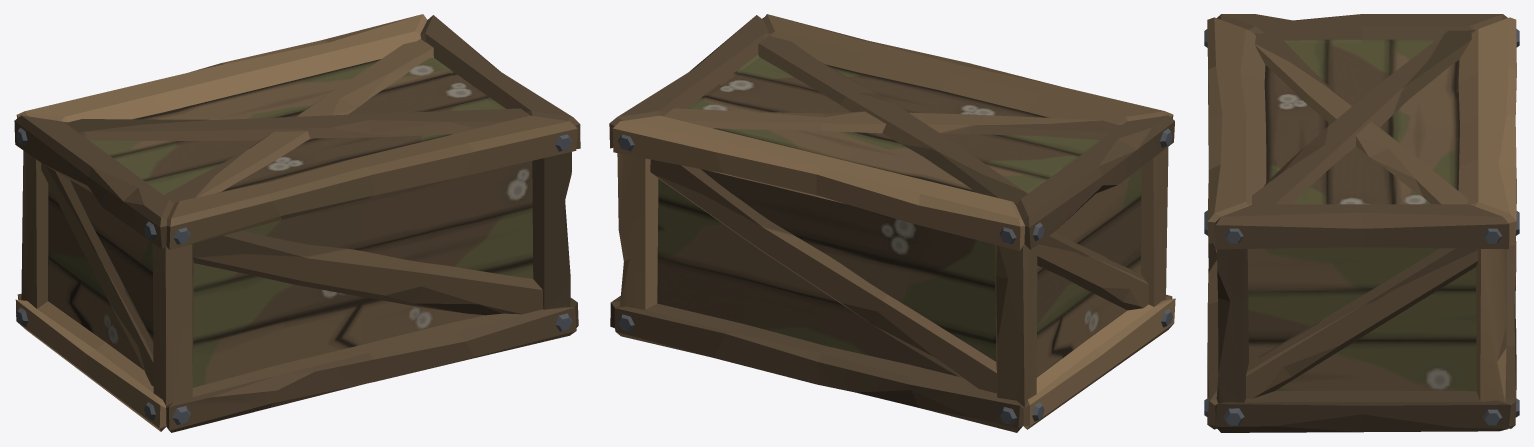
File: SM_Prop_Crate_02.fbx
The picture shows the model from 3 angles, left to right: view 1: azimuth 30°, elevation 25°; view 2: azimuth 150°, elevation 25°; view 3: azimuth 270°, elevation 25°; orthographic projection.
Visible parts, largest first — view 1: SM_Prop_Crate_02; view 2: SM_Prop_Crate_02; view 3: SM_Prop_Crate_02.
Boxes of the visible parts, x1,y1,x2,y2 form: SM_Prop_Crate_02: [14, 14, 580, 432]; SM_Prop_Crate_02: [609, 14, 1175, 432]; SM_Prop_Crate_02: [1204, 14, 1519, 432].
Size of the model in its own units: 110 by 52.93 by 70.01.
